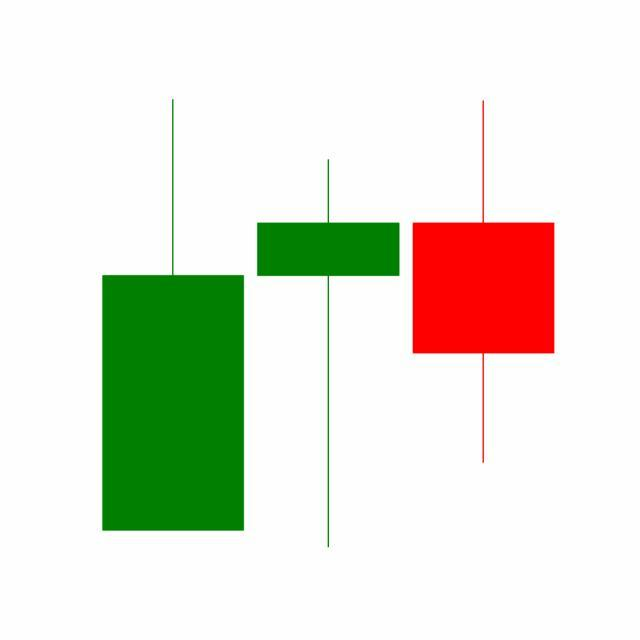Spinning Top: (250, 156, 407, 553)
